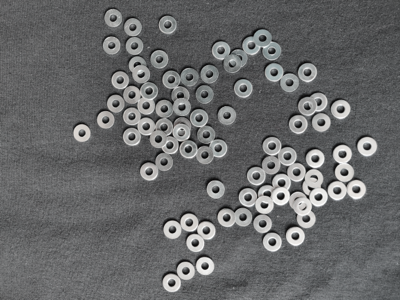circle: (297, 61, 320, 82), (357, 137, 380, 157), (335, 162, 356, 183), (311, 114, 333, 134), (104, 9, 125, 29), (201, 64, 221, 85), (217, 106, 238, 126), (280, 73, 301, 93), (206, 179, 226, 200), (150, 49, 170, 69), (255, 196, 275, 216), (262, 233, 282, 253), (196, 256, 216, 276), (162, 274, 182, 294), (158, 15, 179, 34), (156, 99, 175, 120), (154, 153, 175, 172), (233, 79, 254, 98), (297, 97, 318, 116), (332, 99, 351, 120), (333, 145, 354, 164), (128, 55, 148, 74), (180, 67, 199, 87), (107, 93, 126, 113), (72, 123, 91, 143), (211, 41, 231, 60), (263, 41, 282, 61), (288, 115, 308, 134), (246, 166, 266, 185), (273, 174, 293, 193), (258, 185, 278, 204), (238, 188, 258, 207), (310, 188, 329, 208), (253, 215, 273, 234), (234, 208, 254, 227), (180, 212, 199, 232), (163, 220, 183, 239), (176, 261, 195, 281), (243, 35, 261, 56), (185, 234, 206, 252), (124, 17, 143, 36), (123, 86, 142, 105), (172, 86, 191, 105), (196, 86, 215, 105), (190, 109, 209, 128), (179, 140, 198, 159), (198, 126, 217, 145), (224, 55, 243, 74), (254, 28, 273, 47), (265, 63, 284, 82), (263, 137, 282, 156), (306, 149, 325, 168), (263, 156, 282, 175), (348, 180, 367, 199), (218, 209, 237, 228), (97, 110, 115, 130), (174, 117, 194, 135), (196, 146, 214, 166), (288, 163, 306, 183), (305, 170, 325, 188), (297, 211, 317, 229), (287, 227, 305, 247), (197, 222, 217, 240), (302, 178, 323, 195), (111, 71, 130, 89), (162, 70, 180, 89), (173, 99, 192, 117), (137, 118, 156, 136), (155, 119, 174, 137), (141, 162, 159, 181), (230, 49, 249, 67), (279, 147, 298, 165), (328, 182, 347, 200), (125, 37, 145, 54), (291, 192, 308, 212), (103, 37, 121, 55), (123, 128, 141, 146), (173, 124, 191, 142), (310, 92, 328, 110), (273, 189, 291, 207), (294, 199, 313, 216), (140, 83, 160, 99), (133, 66, 151, 83), (123, 108, 141, 125), (150, 131, 168, 148), (211, 140, 229, 157), (162, 137, 179, 154), (138, 97, 154, 115)
